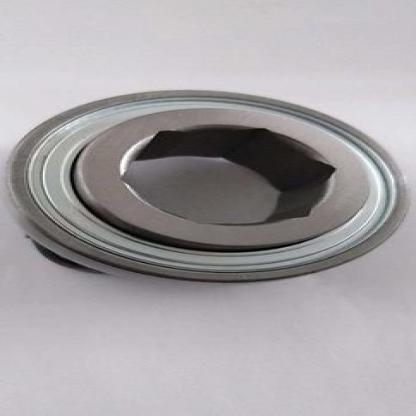FOD: (0, 86, 415, 294)
